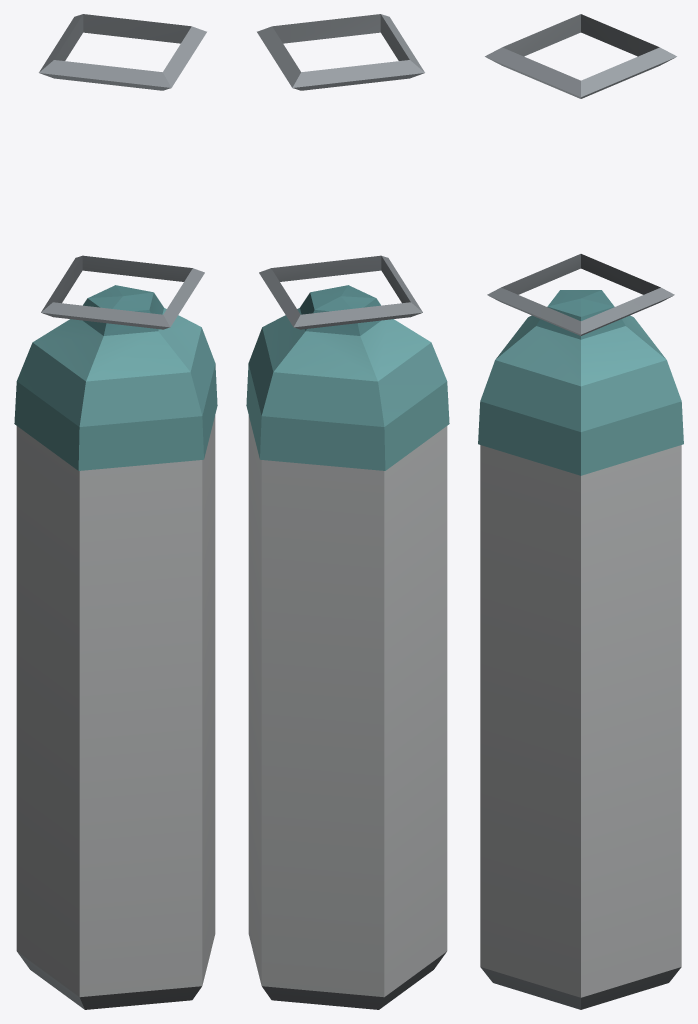
The picture shows the model from 3 angles, left to right: view 1: azimuth 30°, elevation 25°; view 2: azimuth 150°, elevation 25°; view 3: azimuth 270°, elevation 25°; orthographic projection.
Bounding box in the file's own units: 0.261 × 1.3 × 0.2624.
